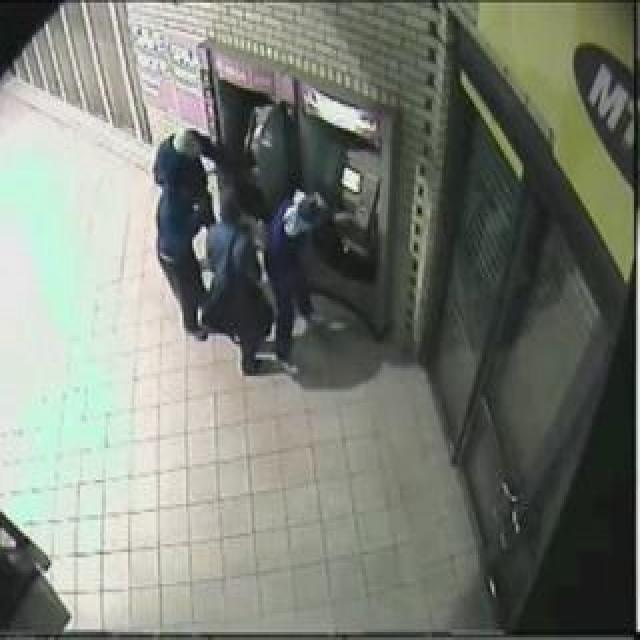thief: (137, 100, 337, 300)
